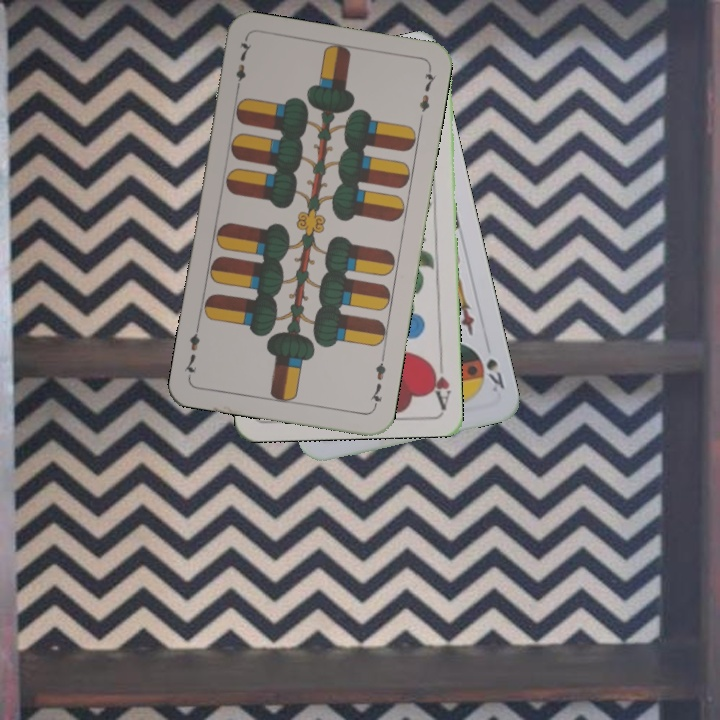E7: (365, 352, 389, 411), (231, 36, 254, 95)
HA: (426, 351, 454, 410)
SK: (482, 354, 507, 395)
